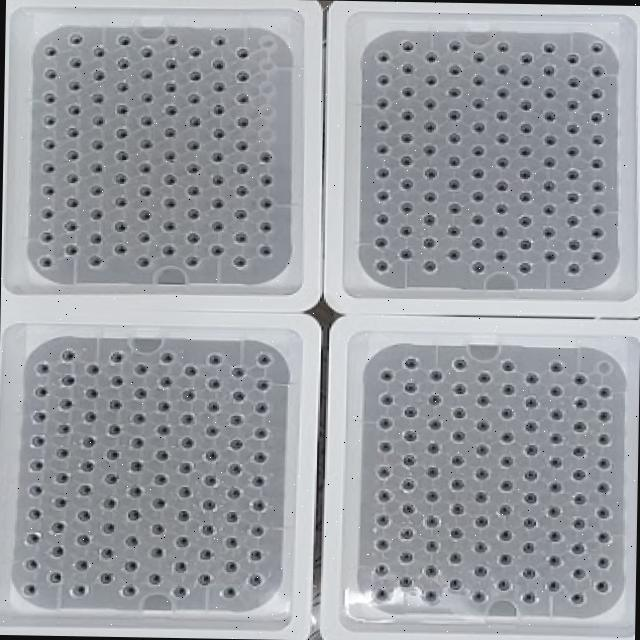pfs: (423, 589, 438, 603), (120, 584, 136, 597), (424, 514, 439, 527), (495, 578, 510, 591), (424, 564, 438, 577), (472, 590, 486, 603), (595, 506, 609, 519), (197, 573, 212, 585), (249, 524, 264, 536), (70, 585, 86, 596), (172, 585, 188, 596), (140, 44, 153, 57), (376, 96, 389, 109), (566, 238, 579, 251), (254, 426, 267, 439), (571, 542, 584, 555), (596, 556, 609, 569), (212, 34, 226, 46), (64, 244, 78, 256), (519, 52, 533, 64), (591, 65, 605, 77), (447, 132, 461, 144), (254, 401, 268, 413), (178, 461, 192, 473), (228, 463, 242, 475), (253, 451, 267, 463), (26, 532, 40, 544), (248, 574, 262, 586), (375, 514, 389, 526), (374, 564, 388, 576), (398, 576, 412, 588), (449, 527, 463, 539), (474, 515, 488, 527), (498, 504, 512, 516), (573, 493, 587, 505), (88, 255, 103, 266), (206, 378, 221, 389), (28, 459, 43, 470), (80, 460, 95, 471), (128, 486, 143, 497), (101, 498, 116, 509), (259, 151, 272, 163), (210, 244, 223, 256), (422, 144, 435, 156), (590, 227, 603, 239), (494, 249, 507, 261), (61, 349, 74, 361), (110, 351, 123, 363), (61, 374, 74, 386), (181, 389, 194, 401), (32, 411, 45, 423), (180, 436, 193, 448), (203, 474, 216, 486), (178, 486, 191, 498), (100, 572, 113, 584), (151, 523, 164, 535), (176, 536, 189, 548), (174, 561, 187, 573), (201, 524, 214, 536), (526, 372, 539, 384), (477, 395, 490, 407), (380, 369, 393, 381), (378, 417, 391, 429), (402, 478, 415, 490), (596, 457, 609, 469), (499, 479, 512, 491), (450, 502, 463, 514), (474, 565, 487, 577), (548, 530, 561, 542), (522, 567, 535, 579), (522, 591, 535, 603), (547, 580, 560, 592), (188, 45, 202, 56), (163, 59, 177, 70), (136, 256, 150, 267), (161, 244, 175, 255), (233, 256, 247, 267), (518, 191, 532, 202), (422, 214, 436, 225), (494, 226, 508, 237), (231, 366, 245, 377), (256, 379, 270, 390), (131, 413, 145, 424), (226, 487, 240, 498), (24, 559, 38, 570), (48, 572, 62, 583), (127, 509, 141, 520), (403, 382, 417, 393), (402, 430, 416, 441), (597, 386, 611, 397), (573, 421, 587, 432), (475, 468, 489, 479), (399, 528, 413, 539), (448, 579, 462, 590), (523, 492, 537, 503), (596, 531, 610, 542), (547, 555, 561, 566), (595, 581, 609, 592), (64, 173, 79, 183), (155, 425, 170, 435), (237, 47, 249, 59), (236, 92, 248, 104), (236, 162, 248, 174), (472, 51, 484, 63), (543, 226, 555, 238), (52, 545, 64, 557), (148, 573, 160, 585), (449, 552, 461, 564), (68, 33, 81, 44), (117, 34, 130, 45), (116, 58, 129, 69), (43, 68, 56, 79), (236, 116, 249, 127), (40, 230, 53, 241), (162, 220, 175, 231), (185, 255, 198, 266), (590, 41, 603, 52), (423, 98, 436, 109), (472, 98, 485, 109), (423, 121, 436, 132), (471, 145, 484, 156), (542, 180, 555, 191), (448, 179, 461, 190), (376, 190, 389, 201), (375, 260, 388, 271), (422, 237, 435, 248), (447, 225, 460, 236), (447, 249, 460, 260), (423, 261, 436, 272), (518, 239, 531, 250), (159, 376, 172, 387), (59, 398, 72, 409), (208, 353, 221, 364), (257, 354, 270, 365), (30, 435, 43, 446), (82, 436, 95, 447), (206, 401, 219, 412), (229, 414, 242, 425), (229, 439, 242, 450), (130, 437, 143, 448), (105, 473, 118, 484), (252, 475, 265, 486), (51, 522, 64, 533), (75, 560, 88, 571), (101, 523, 114, 534), (124, 560, 137, 571), (176, 510, 189, 521), (251, 499, 264, 510), (222, 586, 235, 597), (477, 372, 490, 383), (501, 360, 514, 371), (380, 394, 393, 405), (428, 418, 441, 429), (451, 430, 464, 441), (524, 396, 537, 407), (574, 397, 587, 408), (476, 444, 489, 455), (402, 454, 415, 465), (379, 441, 392, 452), (377, 466, 390, 477), (450, 479, 463, 490), (499, 456, 512, 467), (597, 434, 610, 445), (425, 491, 438, 502), (375, 589, 388, 600), (399, 552, 412, 563), (474, 542, 487, 553), (572, 568, 585, 579), (67, 81, 81, 91), (41, 139, 55, 149), (89, 162, 103, 172), (63, 221, 77, 231), (65, 197, 79, 207), (113, 221, 127, 231), (162, 197, 176, 207), (186, 163, 200, 173), (210, 221, 224, 231), (470, 168, 484, 178), (423, 168, 437, 178), (399, 179, 413, 189), (375, 214, 389, 224), (373, 237, 387, 247), (205, 426, 219, 436), (27, 509, 41, 519), (150, 547, 164, 557), (452, 359, 466, 369), (524, 445, 538, 455), (572, 469, 586, 479), (570, 593, 584, 603), (92, 69, 104, 80), (164, 81, 176, 92), (212, 103, 224, 114), (212, 127, 224, 138), (163, 150, 175, 161), (114, 173, 126, 184), (42, 184, 54, 195), (164, 174, 176, 185), (187, 208, 199, 219), (235, 140, 247, 151), (260, 174, 272, 185), (236, 185, 248, 196), (402, 40, 414, 51), (425, 51, 437, 62), (449, 40, 461, 51), (497, 87, 509, 98), (543, 110, 555, 121), (567, 123, 579, 134), (473, 121, 484, 133), (400, 155, 412, 166), (591, 158, 603, 169), (592, 204, 604, 215), (567, 192, 579, 203), (495, 203, 507, 214), (471, 190, 483, 201), (448, 202, 459, 214), (544, 250, 556, 261), (472, 261, 483, 273), (134, 363, 146, 374), (85, 388, 97, 399), (157, 400, 169, 411), (29, 485, 41, 496), (130, 461, 142, 472), (203, 499, 214, 511), (77, 510, 89, 521), (23, 584, 35, 595), (100, 548, 112, 559), (126, 535, 137, 547), (226, 511, 238, 522), (225, 561, 237, 572), (430, 370, 442, 381), (502, 383, 514, 394), (453, 407, 465, 418), (574, 373, 586, 384), (427, 442, 439, 453), (549, 433, 561, 444), (549, 457, 561, 468), (475, 492, 487, 503), (378, 490, 390, 501), (499, 530, 511, 541), (499, 553, 511, 564), (212, 59, 225, 69), (140, 69, 153, 79), (67, 104, 80, 114), (164, 105, 177, 115), (115, 150, 128, 160), (138, 163, 151, 173), (40, 208, 53, 218), (89, 185, 102, 195), (137, 232, 150, 242), (211, 198, 224, 208), (234, 232, 247, 242), (259, 245, 272, 255), (377, 51, 390, 61), (542, 43, 555, 53), (496, 64, 509, 74), (401, 86, 414, 96), (376, 121, 389, 131), (401, 110, 414, 120), (543, 135, 556, 145), (495, 111, 508, 121), (375, 144, 388, 154), (518, 146, 531, 156), (566, 169, 579, 179), (591, 181, 604, 191), (542, 204, 555, 214), (496, 157, 509, 167), (399, 225, 412, 235), (423, 192, 436, 202), (471, 238, 484, 248), (518, 216, 531, 226), (86, 364, 99, 374), (160, 352, 173, 362), (134, 388, 147, 398), (34, 386, 47, 396), (109, 399, 122, 409), (57, 423, 70, 433), (181, 414, 194, 424), (155, 450, 168, 460), (53, 497, 66, 507), (205, 451, 218, 461), (199, 549, 212, 559), (249, 550, 262, 560), (404, 358, 417, 368), (452, 384, 465, 394), (403, 407, 416, 417), (500, 408, 513, 418), (476, 420, 489, 430), (549, 385, 562, 395), (597, 411, 610, 421), (500, 432, 513, 442), (451, 455, 464, 465), (524, 470, 537, 480), (401, 504, 414, 514), (547, 507, 560, 517), (523, 517, 536, 527), (596, 482, 609, 492), (549, 362, 563, 371), (141, 92, 152, 103), (139, 209, 150, 220), (520, 123, 531, 134), (567, 216, 578, 227), (401, 203, 412, 214), (111, 375, 122, 386), (155, 474, 166, 485), (426, 541, 437, 552), (69, 57, 81, 67), (93, 46, 105, 56), (165, 35, 177, 45), (189, 70, 201, 80), (115, 104, 127, 114), (116, 81, 128, 91), (188, 93, 200, 103), (213, 82, 225, 92), (189, 116, 201, 126), (140, 116, 152, 126), (43, 115, 55, 125), (66, 127, 78, 137), (42, 163, 54, 173), (66, 149, 78, 159), (91, 140, 103, 150), (140, 138, 152, 148), (187, 140, 199, 150), (39, 256, 51, 266), (114, 244, 126, 254), (139, 186, 151, 196), (187, 233, 199, 243), (211, 174, 223, 184), (234, 209, 246, 219), (259, 198, 271, 208), (259, 221, 271, 231), (401, 63, 413, 73), (496, 42, 508, 52), (566, 53, 578, 63), (543, 65, 555, 75), (567, 77, 579, 87), (591, 88, 603, 98), (544, 88, 556, 98), (519, 76, 531, 86), (472, 75, 484, 85), (425, 74, 437, 84), (376, 75, 388, 85), (448, 87, 460, 97), (590, 135, 602, 145), (566, 146, 578, 156), (448, 110, 460, 120), (400, 133, 412, 143), (376, 167, 388, 177), (496, 133, 508, 143), (591, 251, 603, 261), (567, 263, 579, 273), (495, 181, 507, 191), (400, 249, 412, 259), (471, 214, 483, 224), (590, 112, 602, 122), (184, 365, 196, 375), (36, 363, 48, 373), (232, 391, 244, 401), (56, 448, 68, 458), (108, 424, 120, 434), (106, 449, 118, 459), (56, 473, 68, 483), (153, 498, 165, 508), (77, 535, 89, 545), (428, 394, 440, 404), (550, 409, 562, 419), (525, 421, 537, 431), (427, 467, 439, 477), (573, 446, 585, 456), (573, 518, 585, 528), (114, 197, 127, 206), (543, 157, 556, 166), (78, 485, 91, 494), (237, 71, 248, 81), (44, 93, 55, 103), (164, 127, 175, 137), (90, 234, 101, 244), (188, 185, 199, 195), (566, 99, 577, 109), (449, 65, 460, 75), (448, 156, 459, 166), (519, 262, 530, 272), (226, 537, 237, 547), (376, 539, 387, 549), (523, 542, 534, 552), (44, 46, 56, 55), (115, 128, 127, 137), (90, 209, 102, 218), (519, 169, 531, 178), (549, 482, 561, 491), (92, 116, 105, 124), (212, 152, 222, 162), (520, 100, 530, 110), (84, 411, 95, 420), (91, 94, 102, 102)
